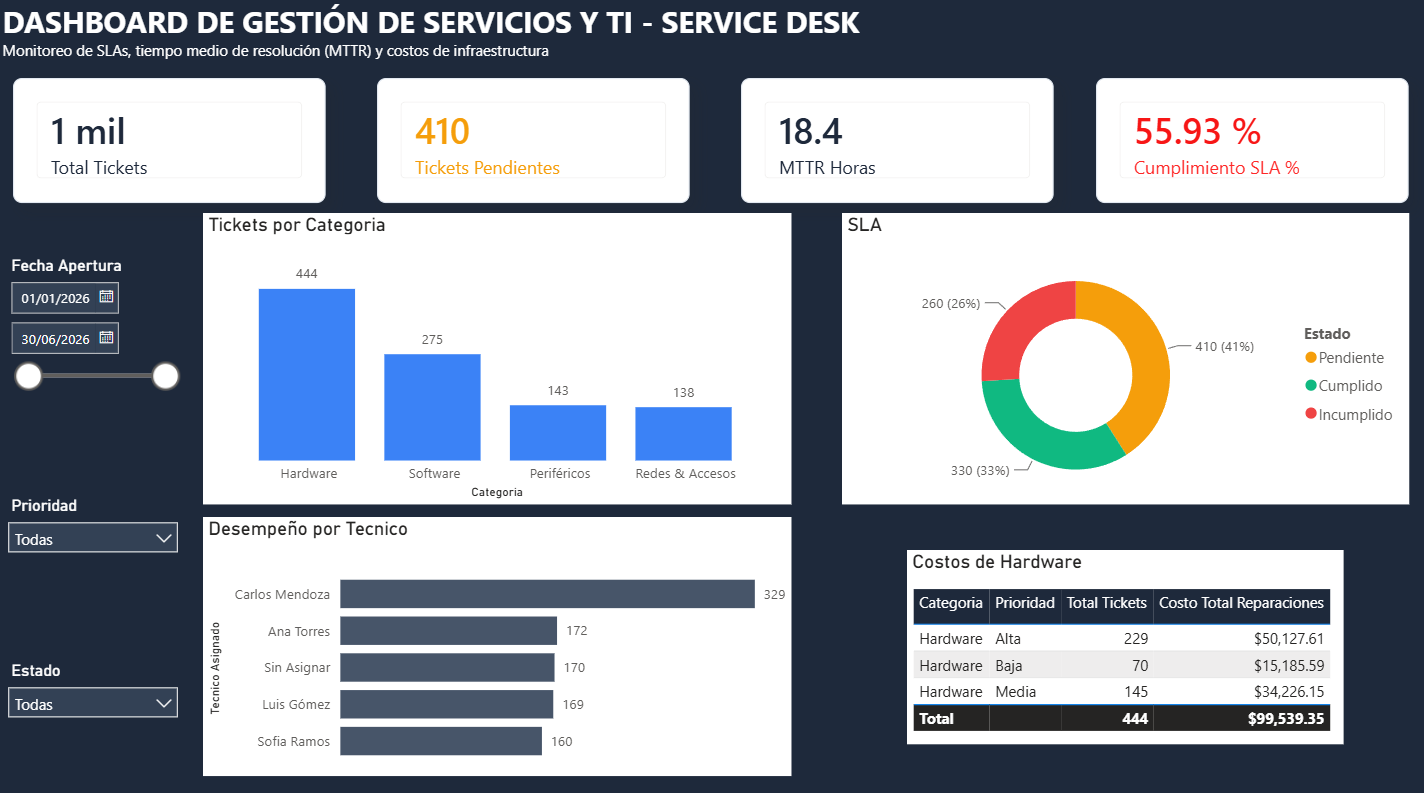

What the dashboard file says about the page in this screenshot:
{"tool":"powerbi","page":{"name":"Main_View","canvas":[1280,720],"ordinal":0},"visuals":[{"type":"cardVisual","fields":{"Data":["ti_service_desk tickets_procesados.Total Tickets"]},"box":[14.6,73.9,280.1,111.9],"z":0},{"type":"cardVisual","fields":{"Data":["ti_service_desk tickets_procesados.Tickets Pendientes"]},"box":[340.6,73.9,280.1,111.9],"z":1000},{"type":"cardVisual","fields":{"Data":["ti_service_desk tickets_procesados.MTTR Horas"]},"box":[666.6,73.9,280.1,111.9],"z":2000},{"type":"cardVisual","fields":{"Data":["ti_service_desk tickets_procesados.Cumplimiento SLA %"]},"box":[984.3,73.9,280.1,111.9],"z":3000},{"type":"clusteredColumnChart","title":"Tickets por Categoria","fields":{"Category":["ti_service_desk tickets_procesados.Categoria"],"Y":["ti_service_desk tickets_procesados.Total Tickets"]},"box":[184.8,195.5,527.2,260.7],"z":4000},{"type":"donutChart","title":"SLA","fields":{"Category":["ti_service_desk tickets_procesados.Estado_SLA"],"Y":["ti_service_desk tickets_procesados.Total Tickets"]},"box":[756.7,195.5,507.7,260.7],"z":5000},{"type":"clusteredBarChart","title":"Desempeño por Tecnico","fields":{"Category":["ti_service_desk tickets_procesados.Tecnico_Asignado"],"Y":["ti_service_desk tickets_procesados.Total Tickets"]},"box":[184.8,467.8,527.2,232.5],"z":6000},{"type":"tableEx","title":"Costos de Hardware","fields":{"Values":["ti_service_desk tickets_procesados.Categoria","ti_service_desk tickets_procesados.Prioridad","ti_service_desk tickets_procesados.Total Tickets","ti_service_desk tickets_procesados.Costo Total Reparaciones"]},"box":[815.1,497,391,174.1],"z":7000},{"type":"slicer","fields":{"Values":["ti_service_desk tickets_procesados.Fecha_Apertura"]},"box":[0,229.5,172.2,163.4],"z":8000},{"type":"slicer","fields":{"Values":["ti_service_desk tickets_procesados.Prioridad"]},"box":[0,444.5,172.2,82.7],"z":9000},{"type":"slicer","fields":{"Values":["ti_service_desk tickets_procesados.Estado"]},"box":[0,592.3,172.2,69.1],"z":10000},{"type":"textbox","box":[0,0,1280,67.1],"z":11000}]}

Visuals, with their boxes in screenshot pixels (x1, y1, x2, y2), scaled from the page's 1280x720 canvas onto the 1424x793 screenshot:
cardVisual - ti_service_desk tickets_procesados.Total Tickets: 16/81/328/205
cardVisual - ti_service_desk tickets_procesados.Tickets Pendientes: 379/81/691/205
cardVisual - ti_service_desk tickets_procesados.MTTR Horas: 742/81/1053/205
cardVisual - ti_service_desk tickets_procesados.Cumplimiento SLA %: 1095/81/1407/205
"Tickets por Categoria" clusteredColumnChart: 206/215/792/502
"SLA" donutChart: 842/215/1407/502
"Desempeño por Tecnico" clusteredBarChart: 206/515/792/771
"Costos de Hardware" tableEx: 907/547/1342/739
slicer - ti_service_desk tickets_procesados.Fecha_Apertura: 0/253/192/433
slicer - ti_service_desk tickets_procesados.Prioridad: 0/490/192/581
slicer - ti_service_desk tickets_procesados.Estado: 0/652/192/728
textbox: 0/0/1423/74
